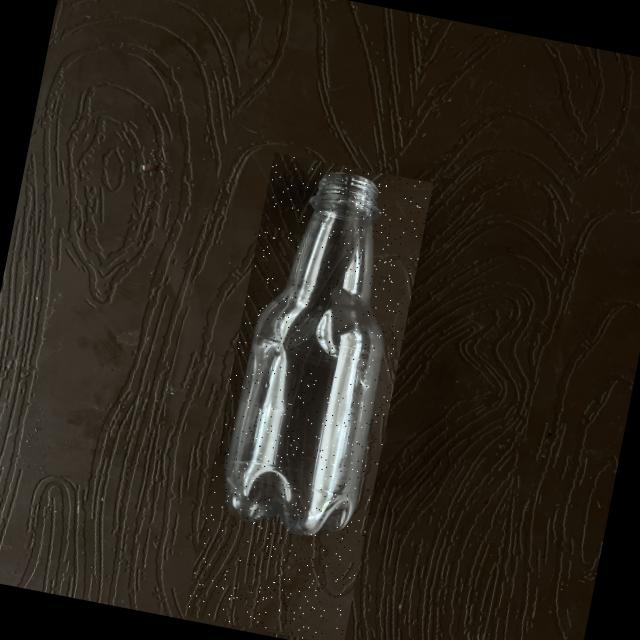PET_ClearBottle: (183, 151, 432, 640)
